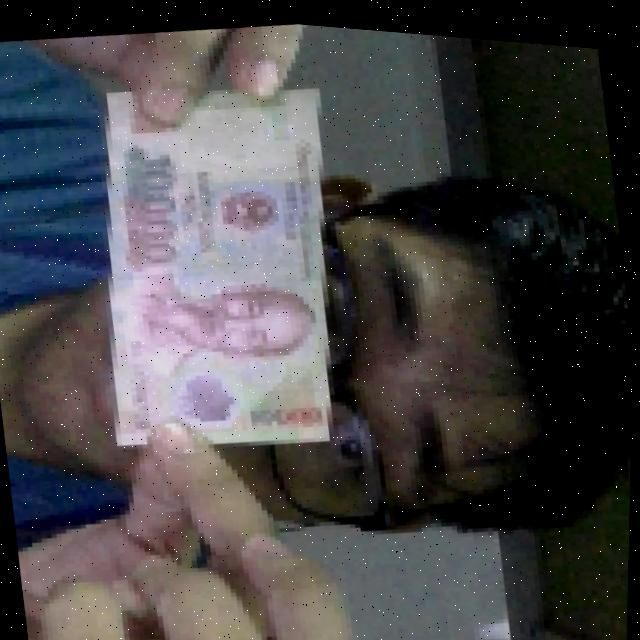10 000 VND: (63, 51, 373, 472)
